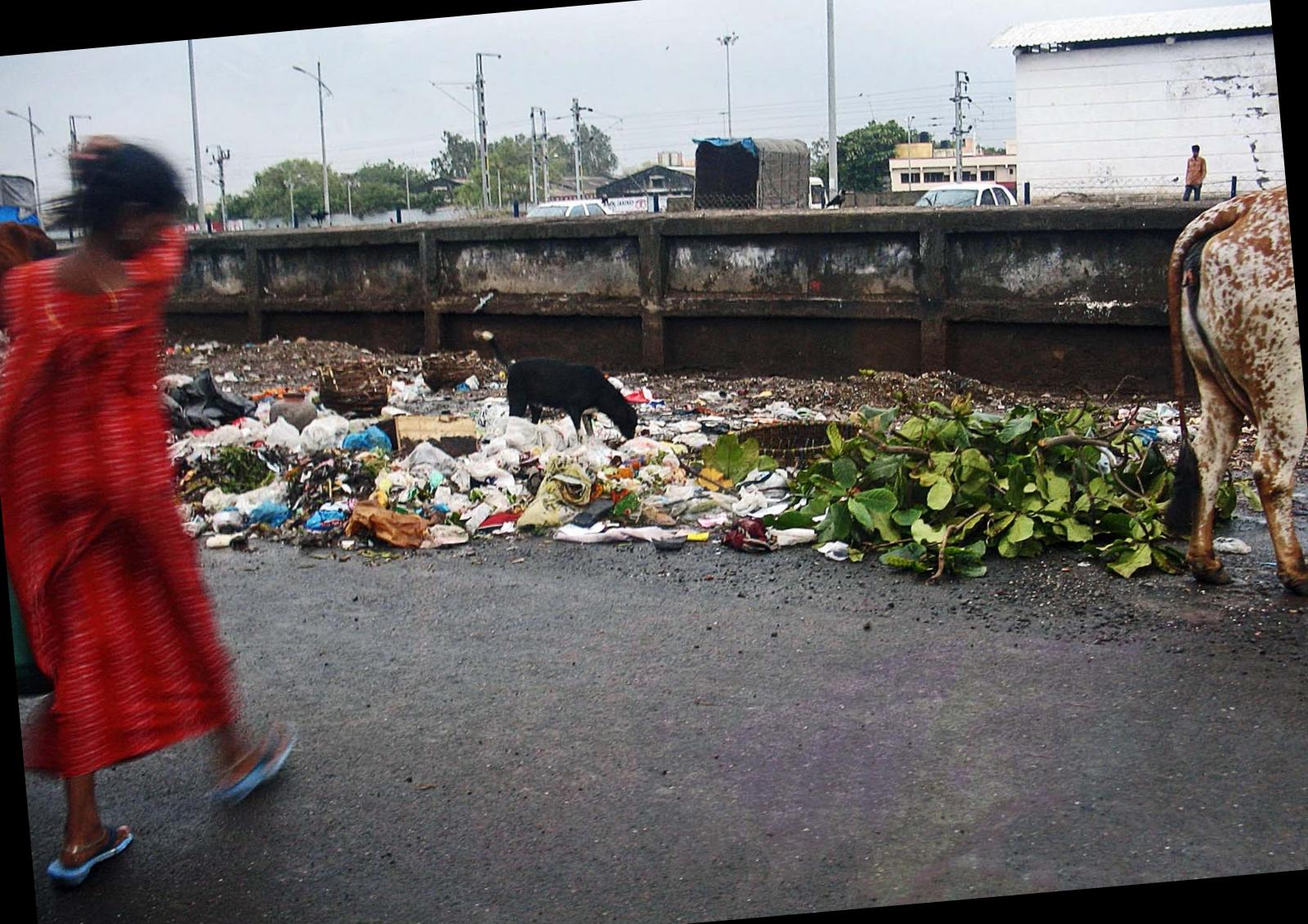car: (916, 179, 1015, 208), (527, 198, 611, 219)
road: (26, 513, 1308, 924)
trash: (784, 397, 1181, 576)
